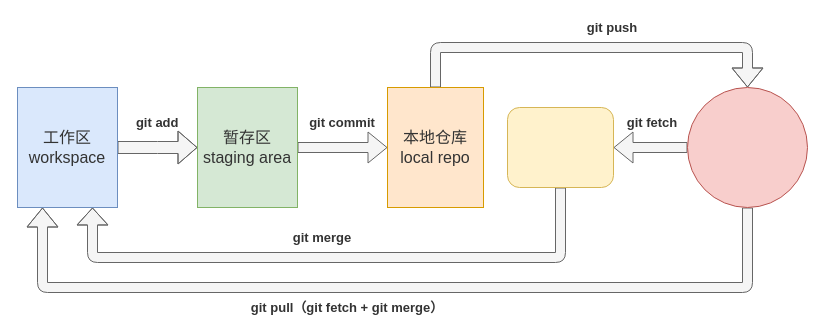
This 825x334 diagram has some shape labels left out. The shapes that lost their labels are listed below. From the top down, each one's box as (x1, y1, x2, y2) in pixels, then its label:
(506, 106, 614, 188): 远程仓库副本 remote repo copy
(686, 86, 808, 208): 远程仓库 remote rep o
